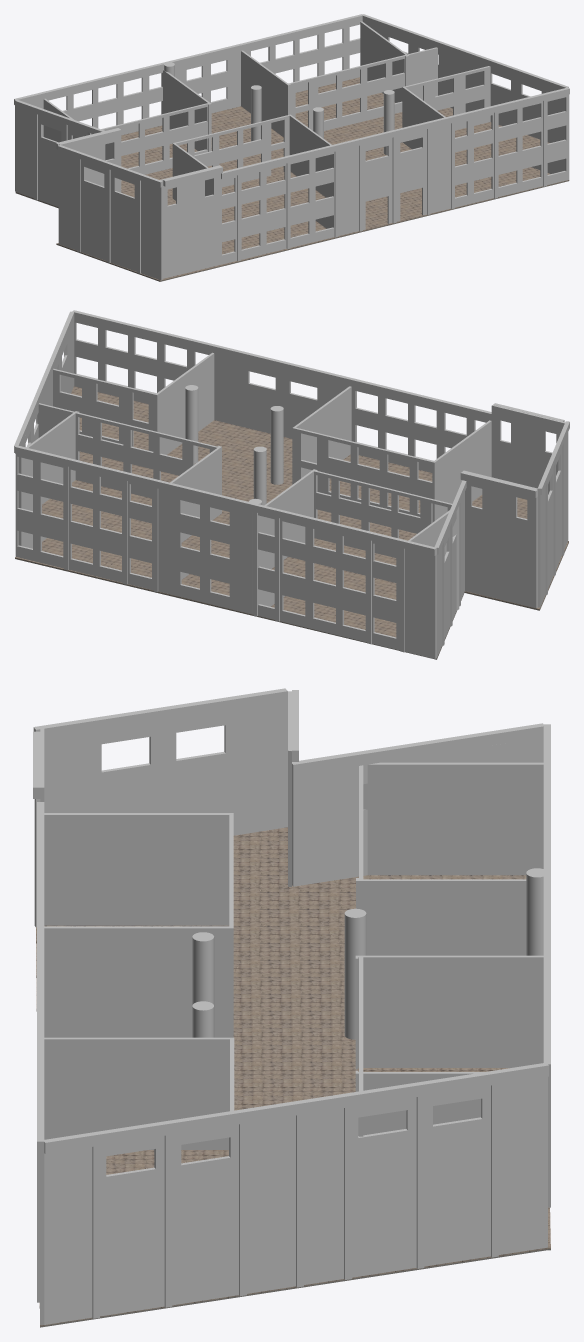
File: SchoolExterior2UV.fbx
3 views of the same model, one above another, from view 1: azimuth 30°, elevation 25°; view 2: azimuth 150°, elevation 25°; view 3: azimuth 270°, elevation 25° (orthographic). The views are drawn at different scales.
Parts seen in each view (by area): view 1: polySurface10545; view 2: polySurface10545; view 3: polySurface10545.
Part boxes in pixels (box(x1,y1,x2,y2)): polySurface10545: box(14, 14, 569, 281); polySurface10545: box(14, 310, 569, 659); polySurface10545: box(33, 688, 550, 1327).
Bounding box in the file's own units: 2541 × 539 × 1263.
